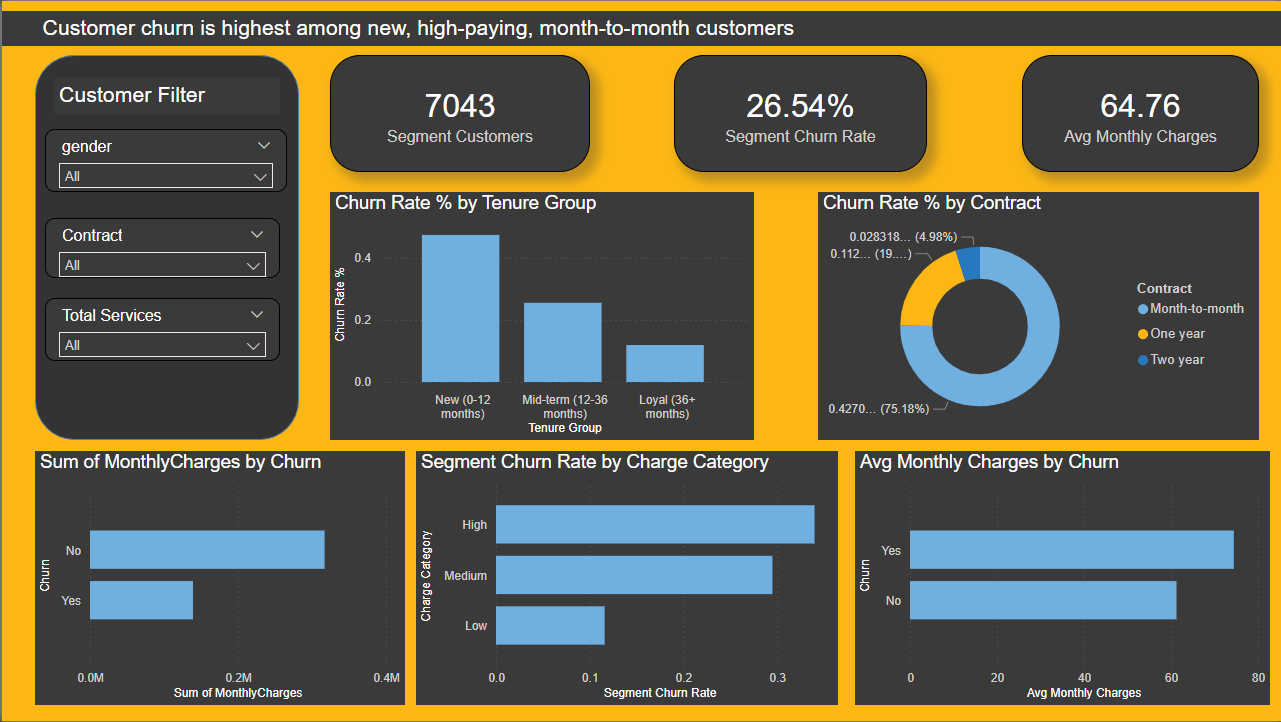

The dashboard page shown, as its layout file describes it:
{"tool":"powerbi","page":{"name":"Customer Segmentation Analysis","canvas":[1280,720],"ordinal":1},"visuals":[{"type":"textbox","box":[0,10,1280,35],"z":0},{"type":"shape","box":[33,54,264,385],"z":1},{"type":"barChart","fields":{"Category":["WA_Fn-UseC_-Telco-Customer-Churn.Churn"],"Y":["Sum(WA_Fn-UseC_-Telco-Customer-Churn.MonthlyCharges)"]},"box":[33,450,370,254],"z":2},{"type":"barChart","fields":{"Category":["WA_Fn-UseC_-Telco-Customer-Churn.Charge Category"],"Y":["WA_Fn-UseC_-Telco-Customer-Churn.Segment Churn Rate"]},"box":[414,450,422,254],"z":3},{"type":"barChart","fields":{"Category":["WA_Fn-UseC_-Telco-Customer-Churn.Churn"],"Y":["WA_Fn-UseC_-Telco-Customer-Churn.Avg Monthly Charges"]},"box":[853,450,415,254],"z":4},{"type":"card","fields":{"Values":["WA_Fn-UseC_-Telco-Customer-Churn.Segment Customers"]},"box":[328,54,260,117],"z":5},{"type":"card","fields":{"Values":["WA_Fn-UseC_-Telco-Customer-Churn.Segment Churn Rate"]},"box":[672,54,253,117],"z":6},{"type":"card","fields":{"Values":["WA_Fn-UseC_-Telco-Customer-Churn.Avg Monthly Charges"]},"box":[1020,54,237,117],"z":7},{"type":"columnChart","fields":{"Y":["WA_Fn-UseC_-Telco-Customer-Churn.Churn Rate %"],"Category":["WA_Fn-UseC_-Telco-Customer-Churn.Tenure Group"]},"box":[328,191,424,248],"z":8},{"type":"donutChart","fields":{"Y":["WA_Fn-UseC_-Telco-Customer-Churn.Churn Rate %"],"Category":["WA_Fn-UseC_-Telco-Customer-Churn.Contract"]},"box":[816,191,441,248],"z":9},{"type":"textbox","box":[52,77,226,36],"z":10},{"type":"slicer","fields":{"Values":["WA_Fn-UseC_-Telco-Customer-Churn.gender"]},"box":[43,128,242,63],"z":11},{"type":"slicer","fields":{"Values":["WA_Fn-UseC_-Telco-Customer-Churn.Contract"]},"box":[43,217,235,60],"z":12},{"type":"slicer","fields":{"Values":["WA_Fn-UseC_-Telco-Customer-Churn.Total Services"]},"box":[43,297,235,63],"z":13}]}

Visuals, with their boxes in screenshot pixels (x1, y1, x2, y2), scaled from the page's 1280x720 canvas onto the 1281x722 screenshot:
textbox: bbox=[0, 10, 1280, 45]
shape: bbox=[33, 54, 297, 440]
barChart - WA_Fn-UseC_-Telco-Customer-Churn.Churn x Sum(WA_Fn-UseC_-Telco-Customer-Churn.MonthlyCharges): bbox=[33, 451, 403, 706]
barChart - WA_Fn-UseC_-Telco-Customer-Churn.Charge Category x WA_Fn-UseC_-Telco-Customer-Churn.Segment Churn Rate: bbox=[414, 451, 837, 706]
barChart - WA_Fn-UseC_-Telco-Customer-Churn.Churn x WA_Fn-UseC_-Telco-Customer-Churn.Avg Monthly Charges: bbox=[854, 451, 1269, 706]
card - WA_Fn-UseC_-Telco-Customer-Churn.Segment Customers: bbox=[328, 54, 588, 171]
card - WA_Fn-UseC_-Telco-Customer-Churn.Segment Churn Rate: bbox=[673, 54, 926, 171]
card - WA_Fn-UseC_-Telco-Customer-Churn.Avg Monthly Charges: bbox=[1021, 54, 1258, 171]
columnChart - WA_Fn-UseC_-Telco-Customer-Churn.Churn Rate % x WA_Fn-UseC_-Telco-Customer-Churn.Tenure Group: bbox=[328, 192, 753, 440]
donutChart - WA_Fn-UseC_-Telco-Customer-Churn.Churn Rate % x WA_Fn-UseC_-Telco-Customer-Churn.Contract: bbox=[817, 192, 1258, 440]
textbox: bbox=[52, 77, 278, 113]
slicer - WA_Fn-UseC_-Telco-Customer-Churn.gender: bbox=[43, 128, 285, 192]
slicer - WA_Fn-UseC_-Telco-Customer-Churn.Contract: bbox=[43, 218, 278, 278]
slicer - WA_Fn-UseC_-Telco-Customer-Churn.Total Services: bbox=[43, 298, 278, 361]
